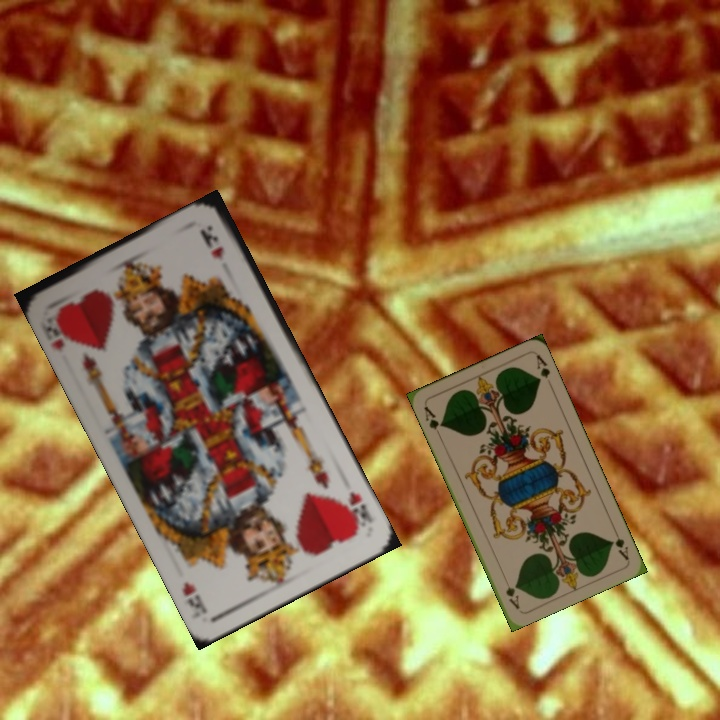GA: (419, 402, 445, 440), (607, 524, 631, 563)
HK: (41, 305, 77, 355), (341, 487, 376, 532)
